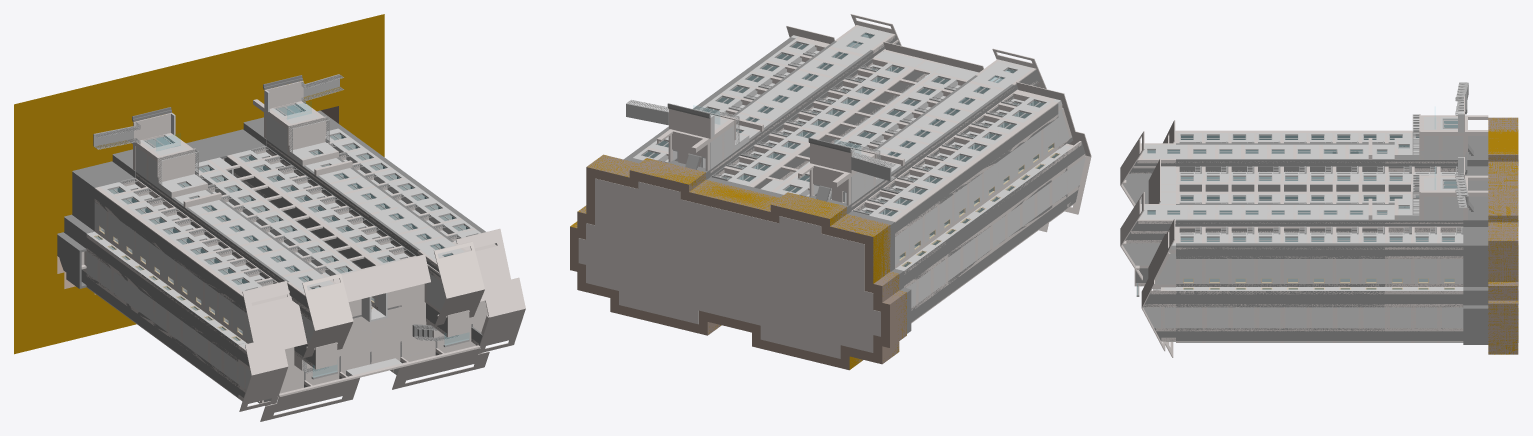
The model's file is hcyz.gltf.
3 views of the same model, side by side, from view 1: azimuth 30°, elevation 25°; view 2: azimuth 150°, elevation 25°; view 3: azimuth 270°, elevation 25° (orthographic). The views are drawn at different scales.
Visible parts, largest first — view 1: 480232, 361715, 376819, 317281, 425343, 428341, 373975, 317277, 317279, 376835, 372352, 317313 (+23 smaller); view 2: 469724, 490006, 490016, 317281, 317277, 317279, 317313, 361715, 317325, 317337, 408525, 408492 (+16 smaller); view 3: 490006, 317303, 490016, 317301, 317317, 317333, 317329, 317293, 317233, 317265, 316331, 376819 (+55 smaller).
Part boxes in pixels (x1,y1,x2,y2): 480232: (14,14,384,354); 361715: (239,281,307,411); 376819: (456,228,525,353); 317281: (86,233,239,361); 425343: (302,273,353,357); 428341: (434,241,484,325); 373975: (333,254,430,301); 317277: (94,189,246,312); 317279: (86,274,238,396); 376835: (392,348,489,389); 372352: (260,377,359,421); 317313: (226,157,374,268); 469724: (578,178,880,358); 490006: (570,154,906,370); 490016: (570,155,906,369); 317281: (903,151,1067,287); 317277: (895,104,1058,236); 317279: (911,194,1067,322); 317313: (754,70,916,188); 361715: (1016,82,1091,214); 317325: (851,87,1014,210); 317337: (710,53,873,175); 408525: (669,109,711,138); 408492: (810,143,852,173); 490006: (1488,117,1518,354); 317303: (1176,290,1463,307); 490016: (1488,117,1518,354); 317301: (1176,328,1463,340); 317317: (1176,247,1463,258); 317333: (1176,222,1463,232); 317329: (1176,161,1457,171); 317293: (1176,184,1419,191); 317233: (1176,243,1463,247); 317265: (1176,219,1463,222); 316331: (1463,247,1488,286); 376819: (1141,219,1175,351).
Size of the model in its own units: 45 by 29 by 44.23.
